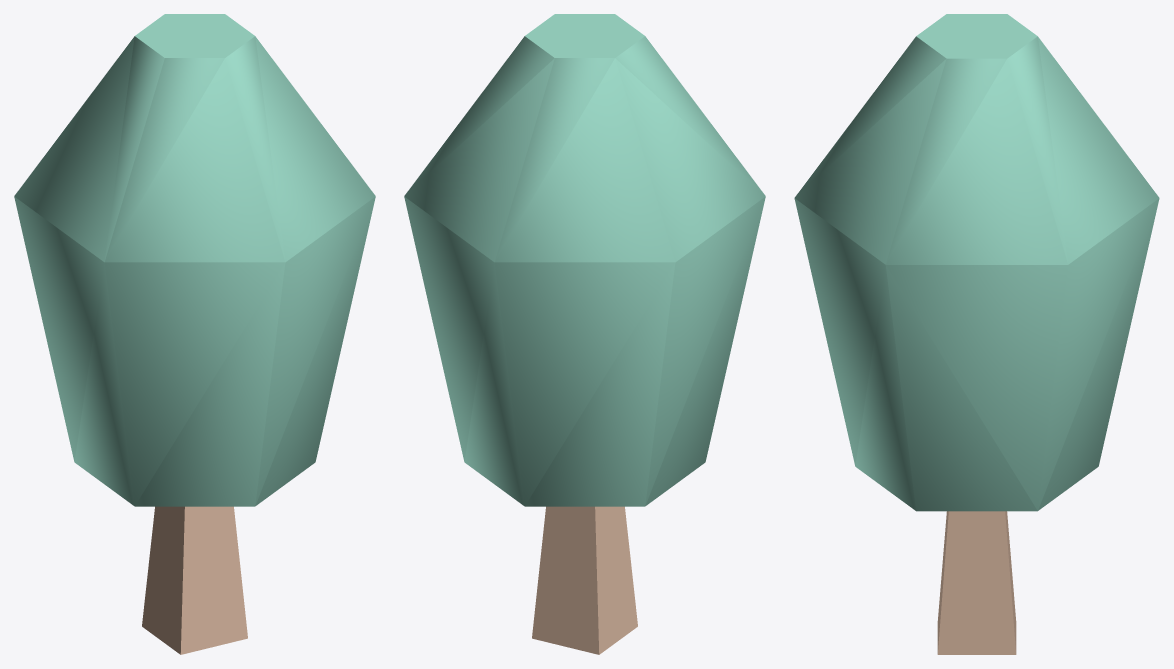
The model's file is tree_fat.fbx.
3 views of the same model, side by side, from view 1: azimuth 30°, elevation 25°; view 2: azimuth 150°, elevation 25°; view 3: azimuth 270°, elevation 25° (orthographic).
Visible parts, largest first — view 1: tree_small; view 2: tree_small; view 3: tree_small.
Boxes of the visible parts, x1,y1,x2,y2 form: tree_small: (14, 14, 375, 654); tree_small: (404, 14, 765, 654); tree_small: (794, 14, 1159, 654).
Bounding box in the file's own units: 21.04 × 44.21 × 24.3.
